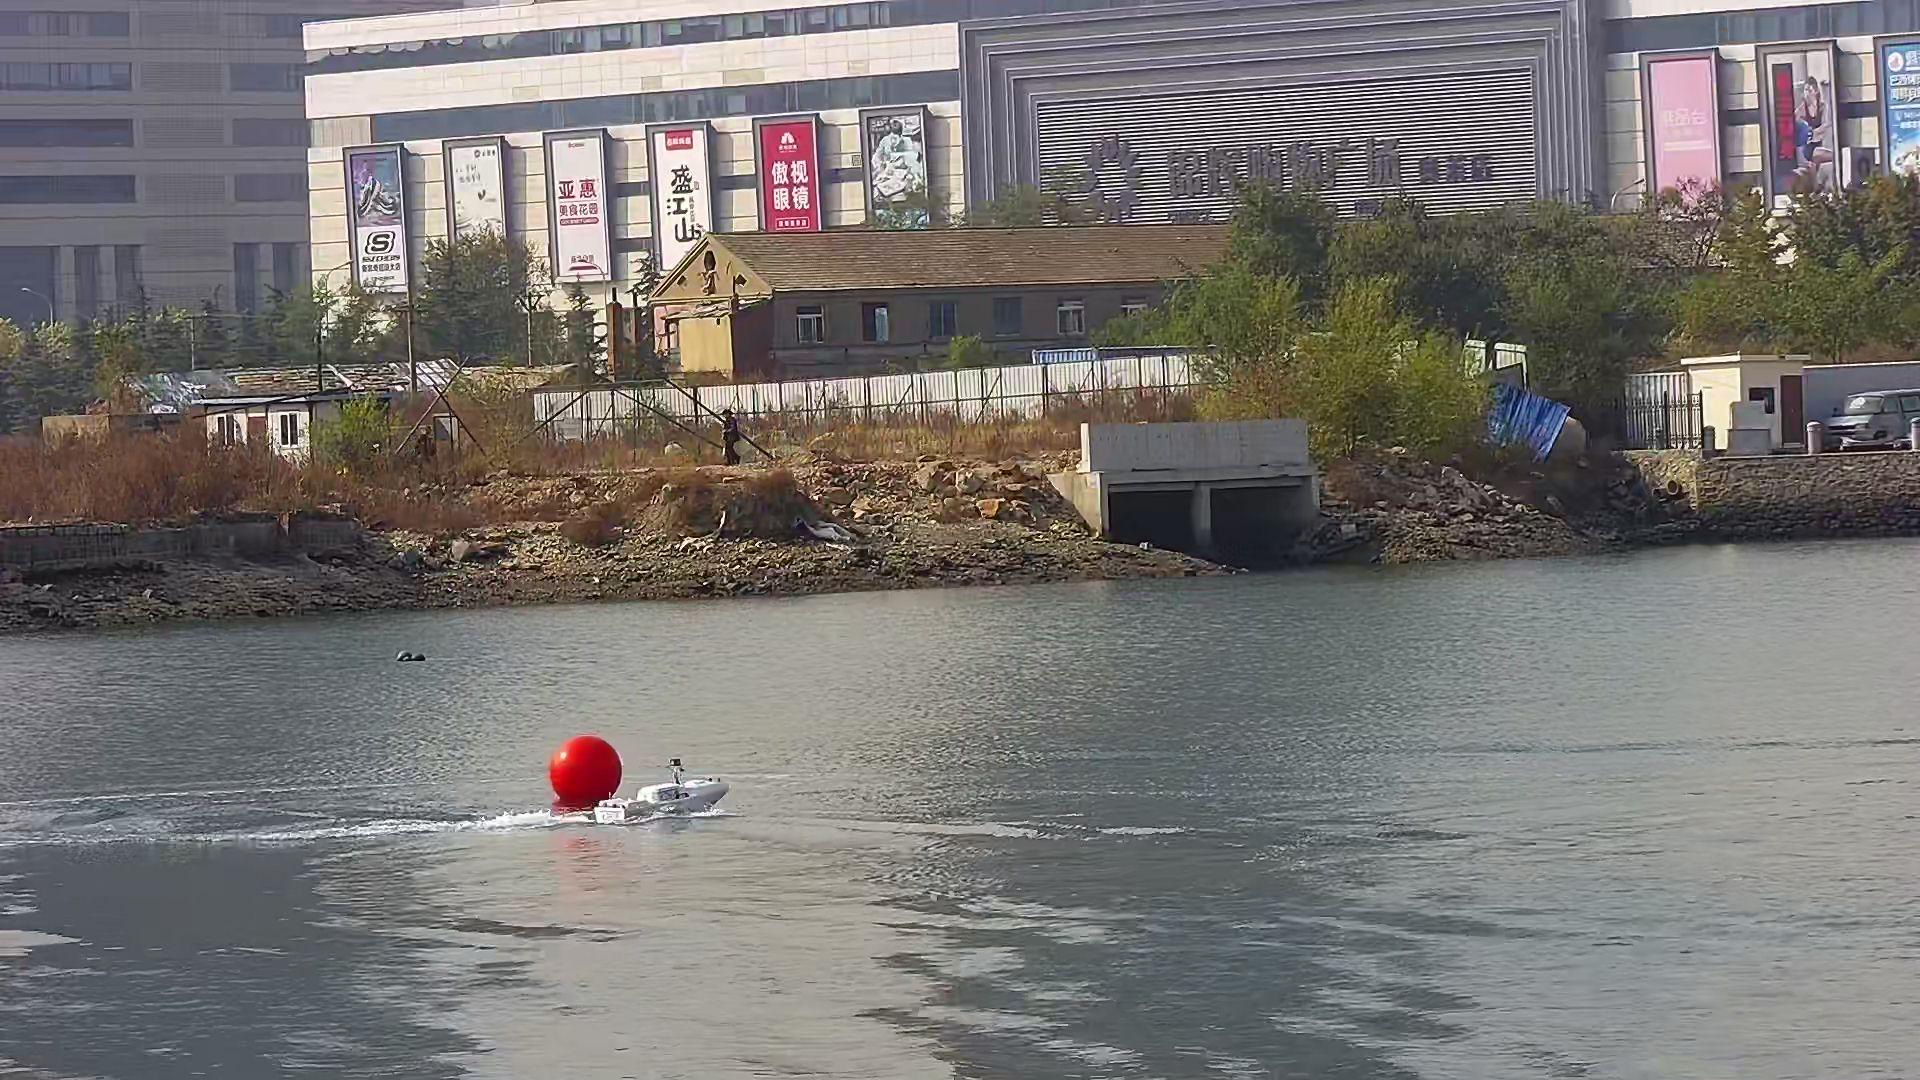ball: (549, 735, 624, 803)
boat: (588, 760, 733, 829)
rubbish: (392, 650, 429, 669)
